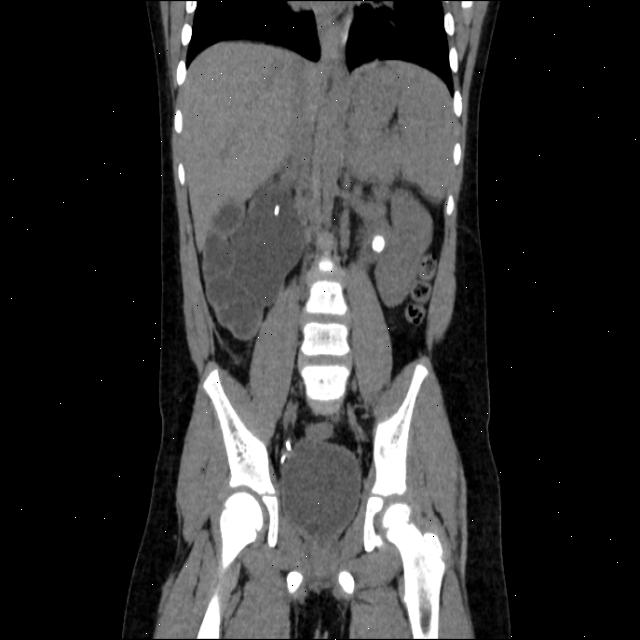kidneystone: (371, 235, 385, 253)
